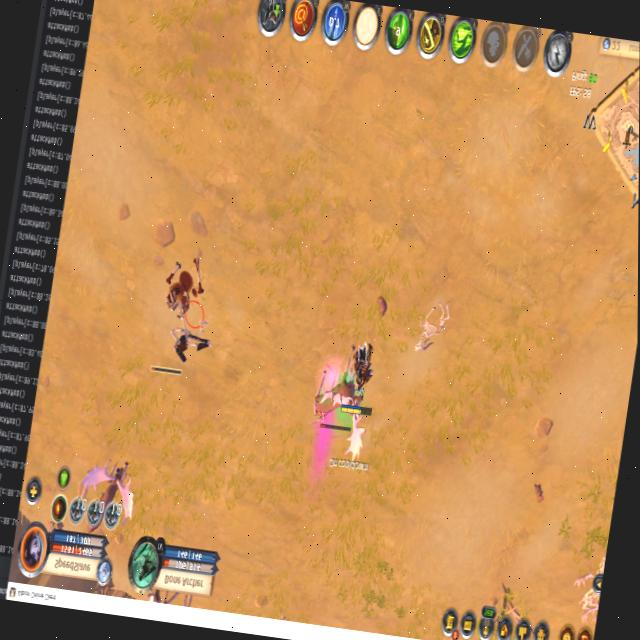ore: (145, 284, 220, 391), (303, 358, 377, 462), (69, 444, 139, 541)
red: (338, 338, 382, 420)
